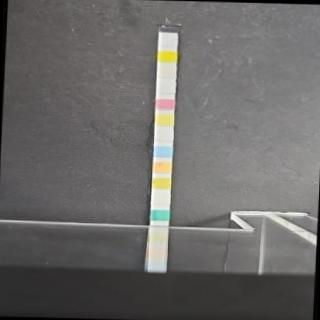mark: (151, 177, 170, 190), (152, 162, 172, 174), (150, 192, 170, 204), (156, 66, 176, 77), (155, 114, 173, 126), (156, 82, 177, 92), (158, 35, 177, 46), (154, 130, 173, 141), (154, 99, 174, 109), (158, 51, 176, 62), (150, 210, 169, 220), (154, 146, 172, 156)
